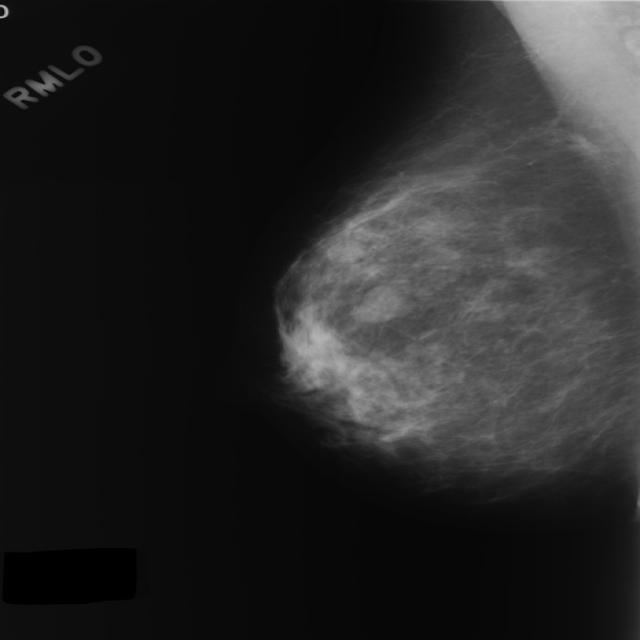tumour: (349, 284, 408, 323)
